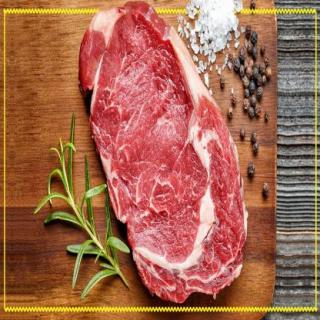Daging Sapi: (81, 4, 247, 300)
